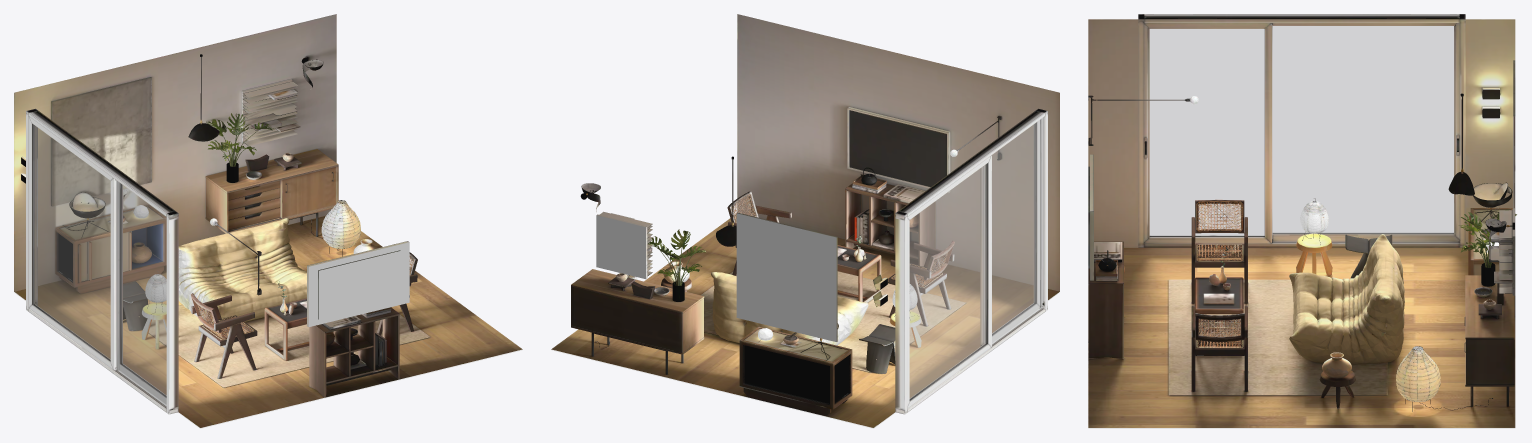
Rendered from compressed_alt4.glb.
3 views of the same model, side by side, from view 1: azimuth 30°, elevation 25°; view 2: azimuth 150°, elevation 25°; view 3: azimuth 270°, elevation 25° (orthographic). The views are drawn at different scales.
Parts seen in each view (by area): view 1: alt4; view 2: alt4; view 3: alt4.
Boxes of the visible parts, x1,y1,x2,y2 form: alt4: (14,14,522,428); alt4: (551,14,1059,428); alt4: (1088,14,1516,428).
Size of the model in its own units: 4.02 by 2.48 by 3.92.
4 materials, 2 textured.
